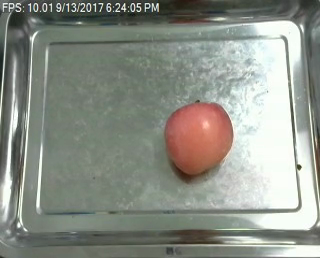Apple: (160, 99, 238, 176)
